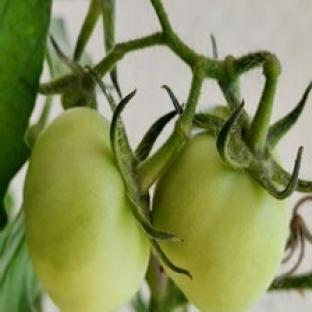Tomato: (24, 108, 150, 311), (152, 133, 288, 311)
